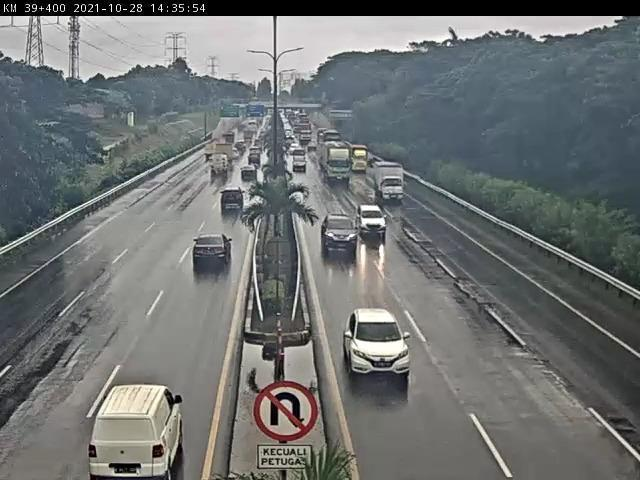car: (87, 379, 192, 479), (341, 299, 413, 379), (322, 213, 357, 254), (188, 234, 224, 273), (354, 205, 393, 239), (221, 189, 246, 221), (285, 152, 315, 172), (246, 151, 269, 167), (239, 169, 259, 186)
truck: (322, 145, 353, 186), (378, 164, 402, 198), (218, 143, 236, 165), (351, 148, 367, 172), (211, 156, 228, 178)
